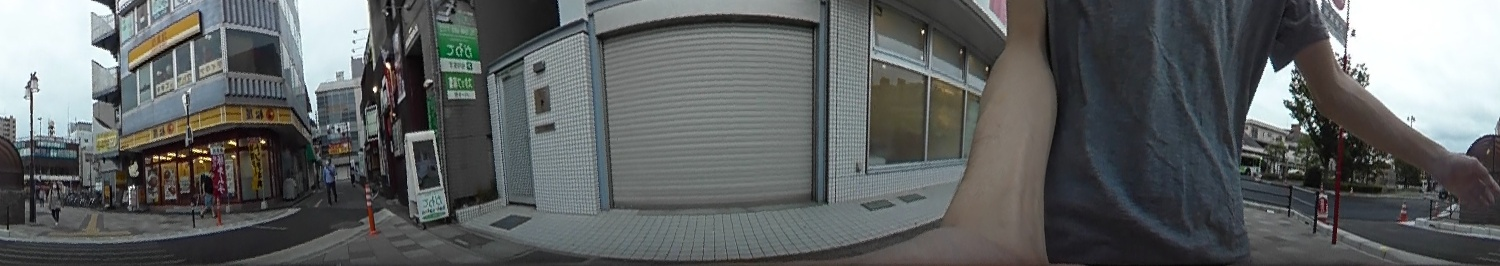person: (201, 168, 218, 218), (322, 156, 339, 204), (47, 179, 63, 223)
